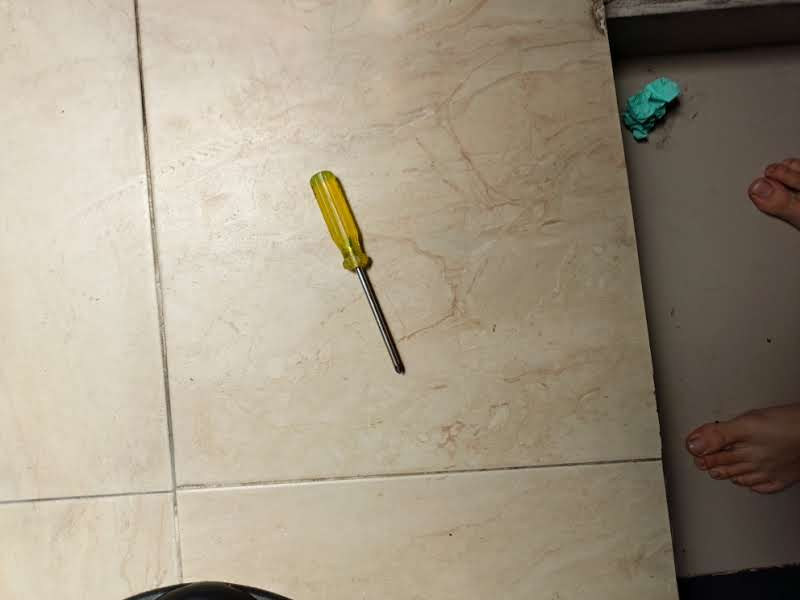Destornillador: (312, 171, 403, 373)
